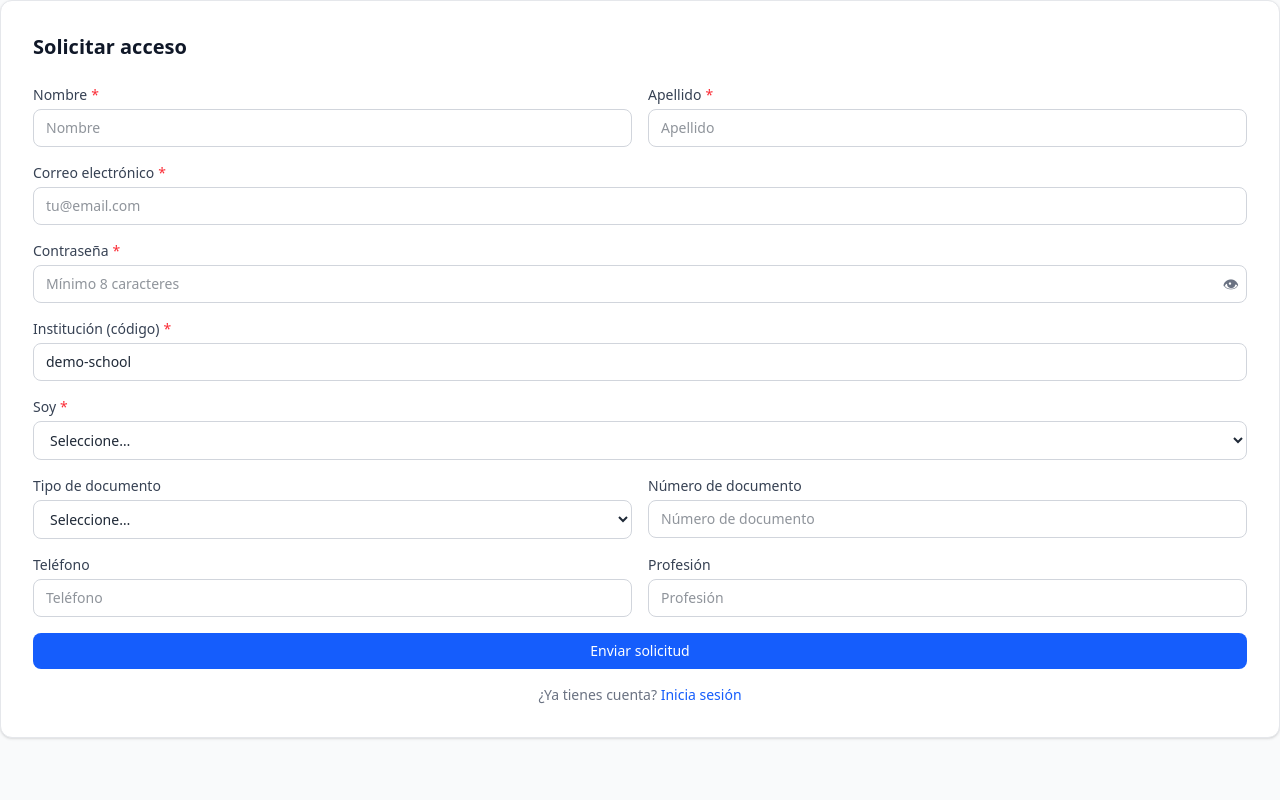
Test case: RegisterPage (GAP-2) › submits a self-registration request and shows pending state
Type "Nuevo" into the field labelled "Nombre*" at (332, 128), box [33,109,632,147]
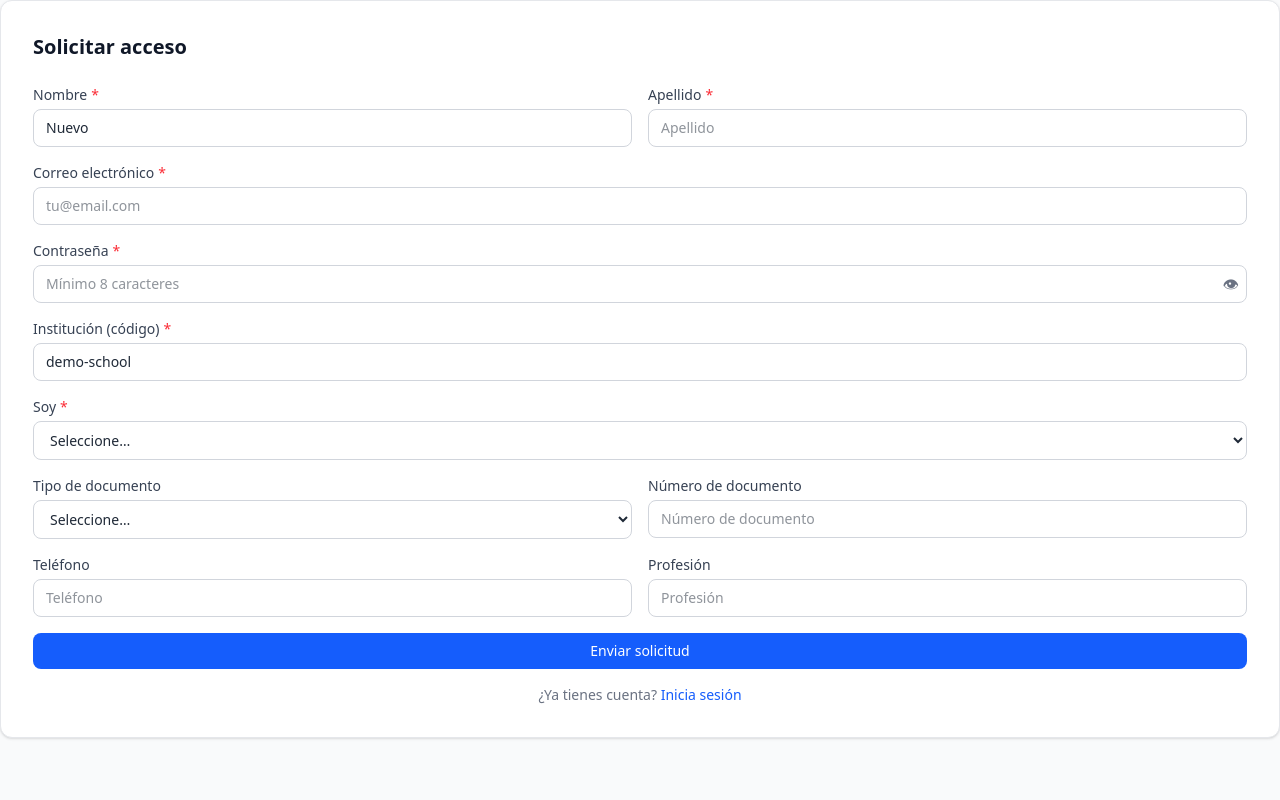
Type "Docente" into the field labelled "Apellido*" at (948, 128), box [648,109,1247,147]
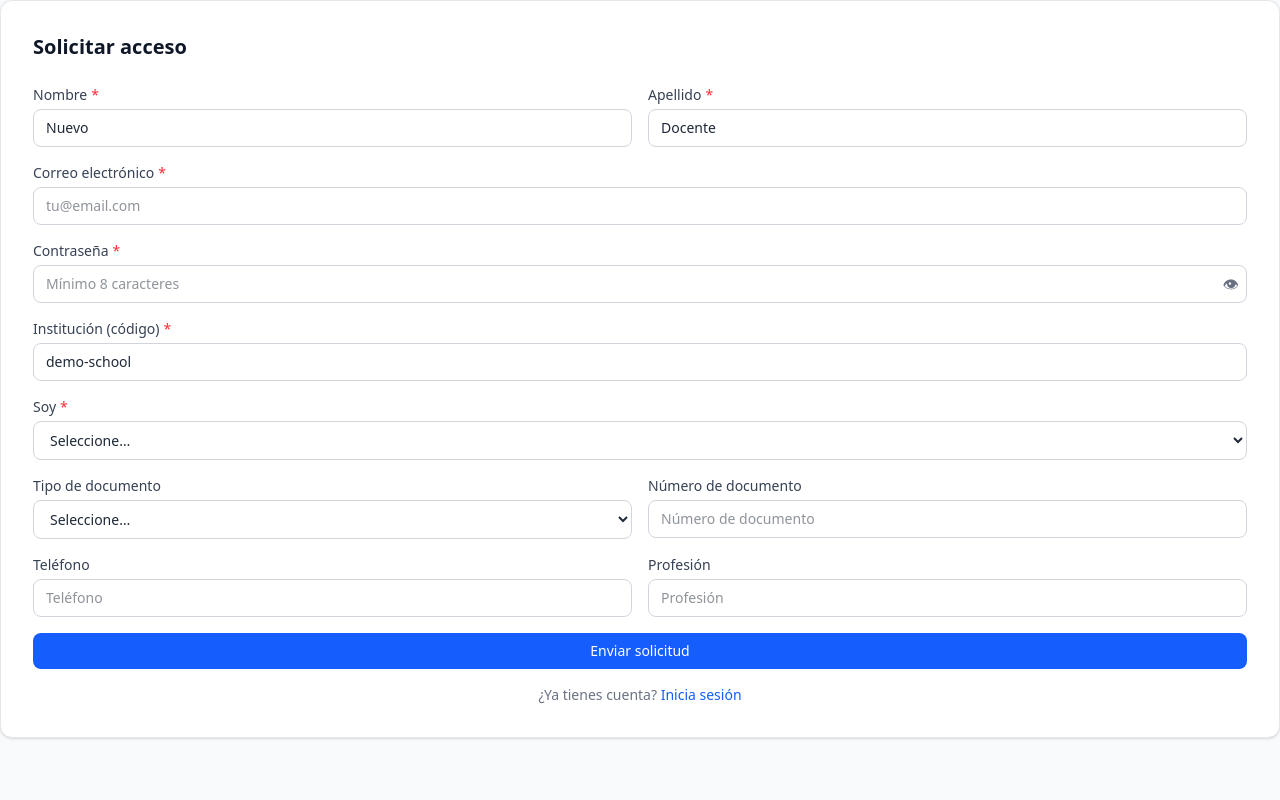
Type "nuevo@colegio.edu.co" into the field labelled "Correo electrónico*" at (640, 206), box [33,187,1247,225]
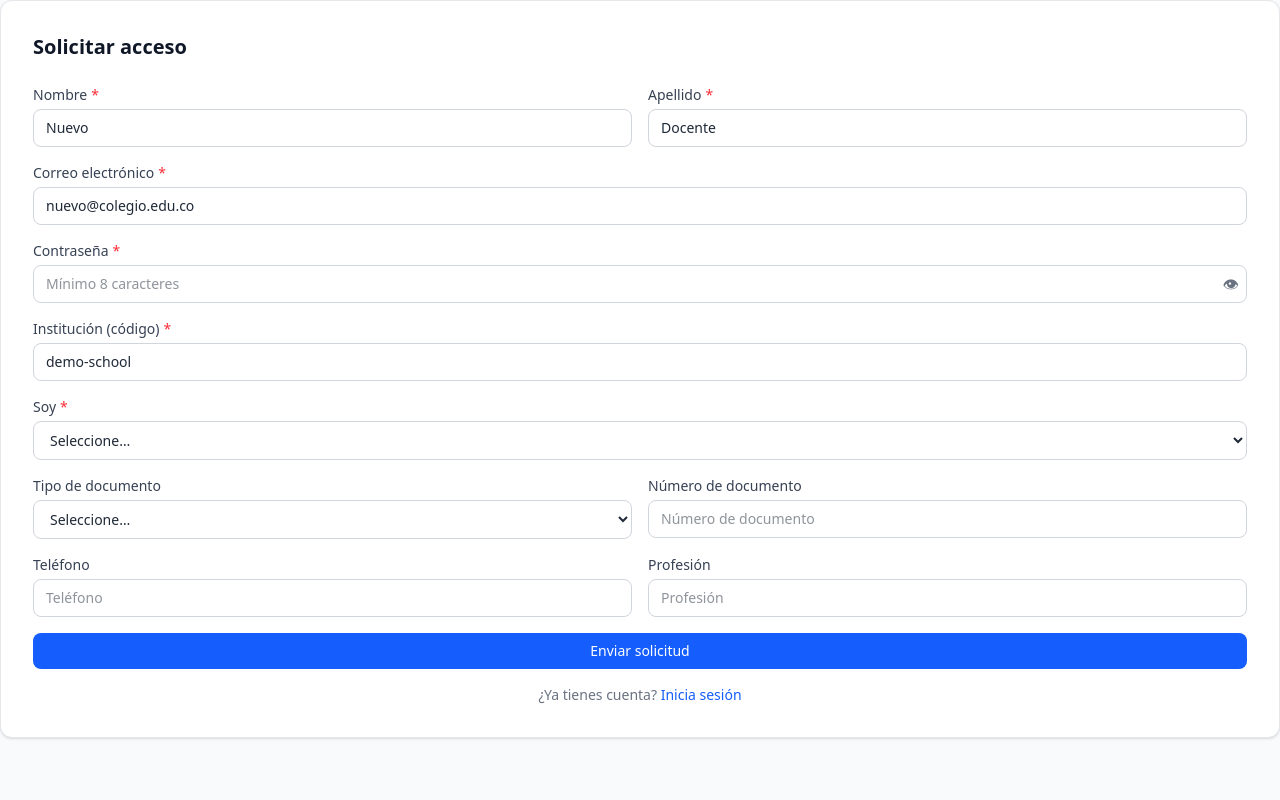
Type "Password123" into the password field labelled "Contraseña*" at (640, 284), box [33,265,1247,303]
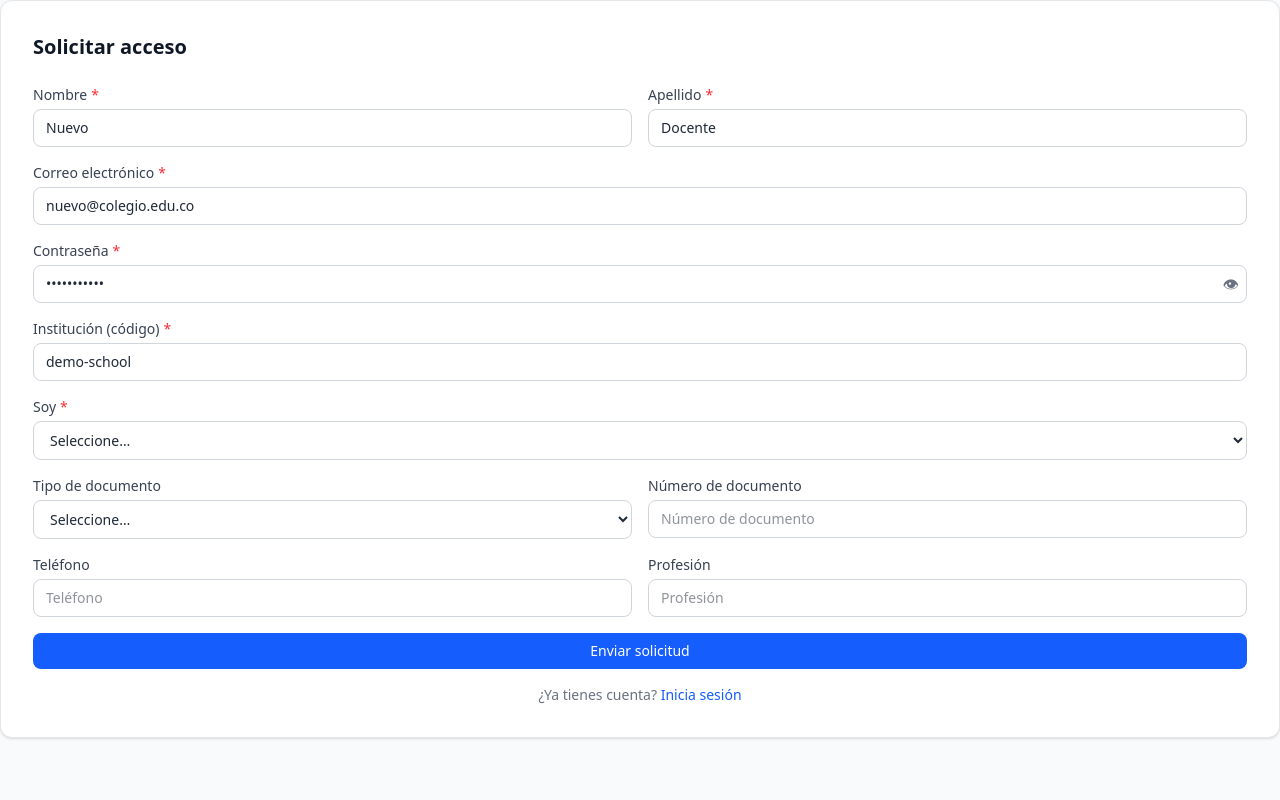
Select "Docente" in the dropdown labelled "Soy*" at (640, 440), box [33,421,1247,460]
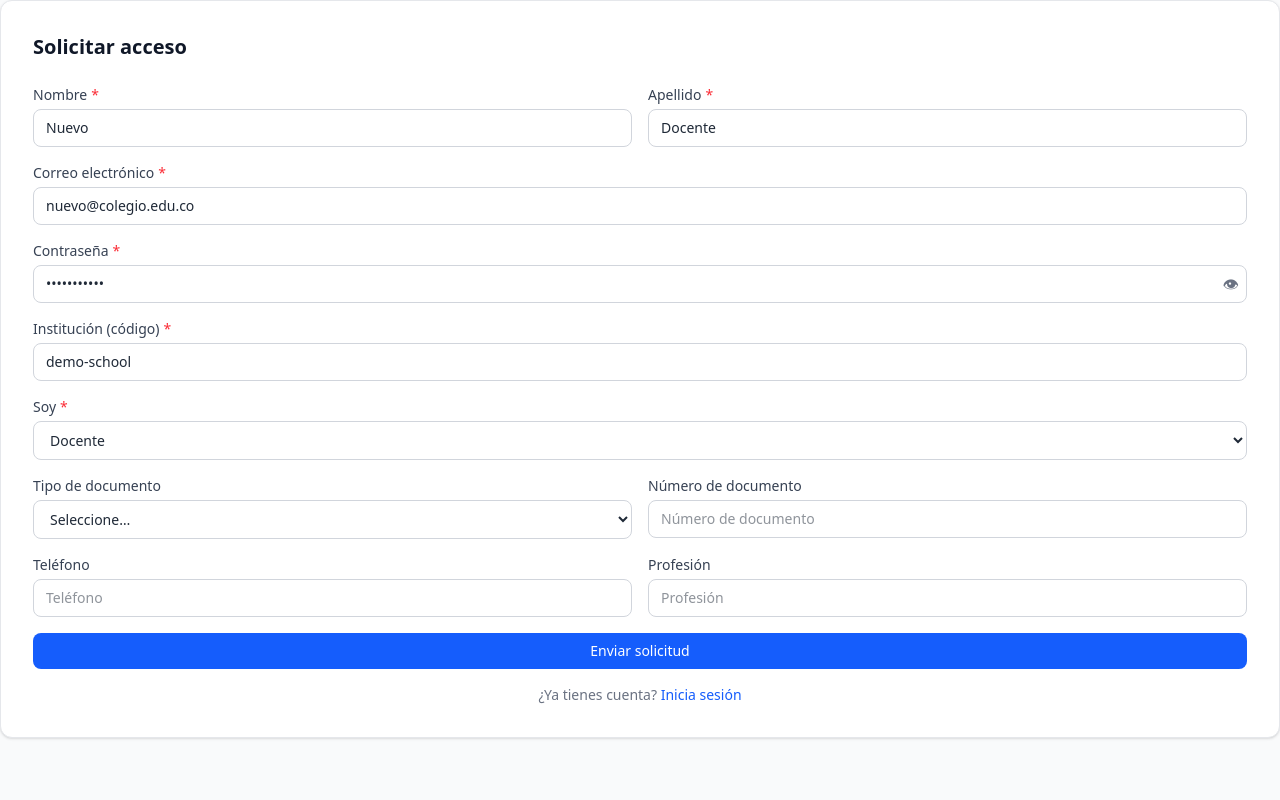
Click the button "Enviar solicitud" at (640, 651), box [33,633,1247,669]
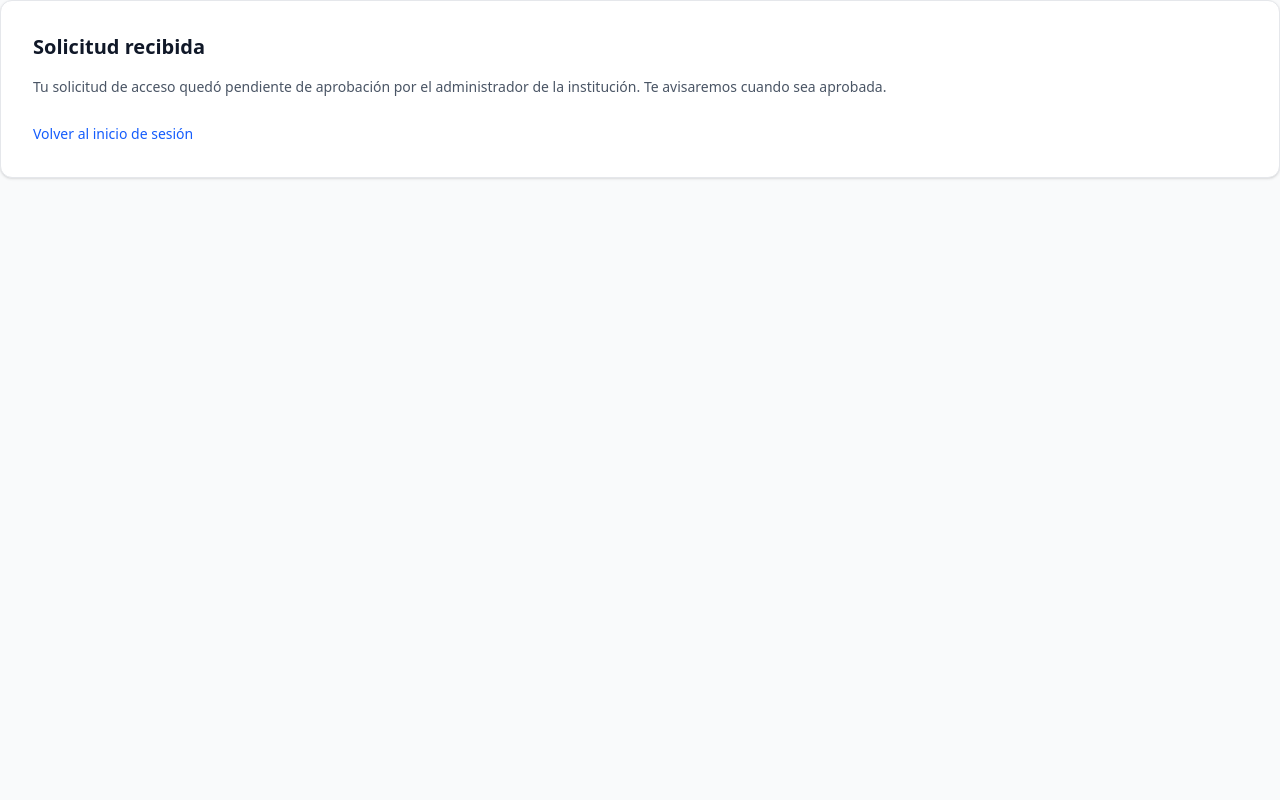
expect the heading "Solicitud recibida" is shown: met, box [33,33,205,60]
